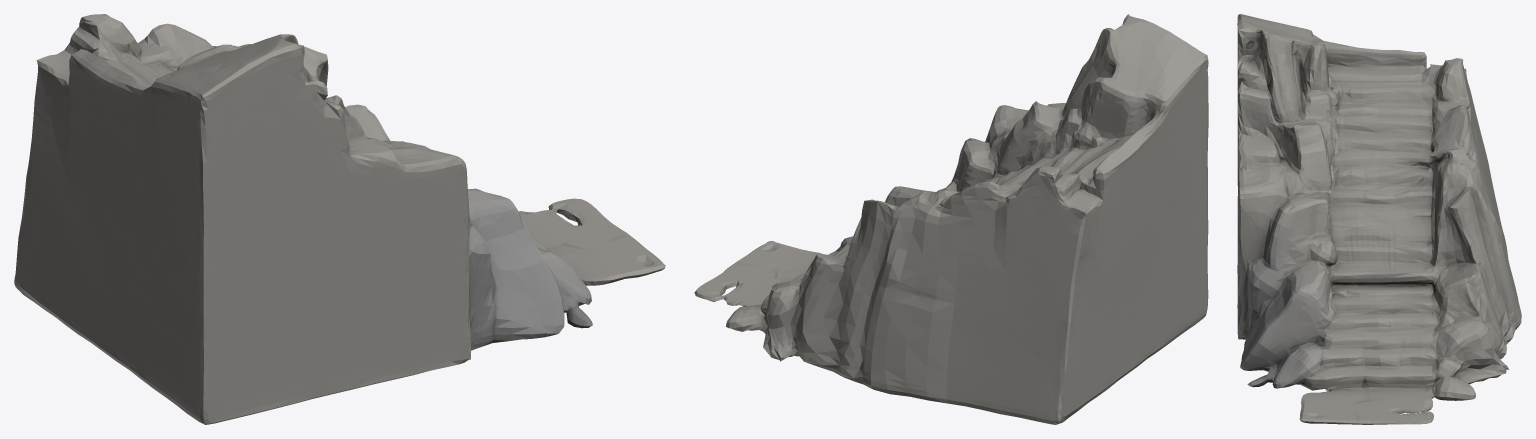
The model's file is escalera.glb.
3 renders of one model, left to right at view 1: azimuth 30°, elevation 25°; view 2: azimuth 150°, elevation 25°; view 3: azimuth 270°, elevation 25°, orthographic. The views are drawn at different scales.
Visible parts, largest first — view 1: tripo_node_2521b861-fd6c-47b3-9971-f7f2d74d9614; view 2: tripo_node_2521b861-fd6c-47b3-9971-f7f2d74d9614; view 3: tripo_node_2521b861-fd6c-47b3-9971-f7f2d74d9614.
Boxes of the visible parts, left/top/right/bottom form: tripo_node_2521b861-fd6c-47b3-9971-f7f2d74d9614: left=14, top=14, right=665, bottom=424; tripo_node_2521b861-fd6c-47b3-9971-f7f2d74d9614: left=694, top=14, right=1208, bottom=424; tripo_node_2521b861-fd6c-47b3-9971-f7f2d74d9614: left=1237, top=14, right=1521, bottom=424.
Size of the model in its own units: 0.9971 by 0.6591 by 0.6645.
1 material, 1 textured.
